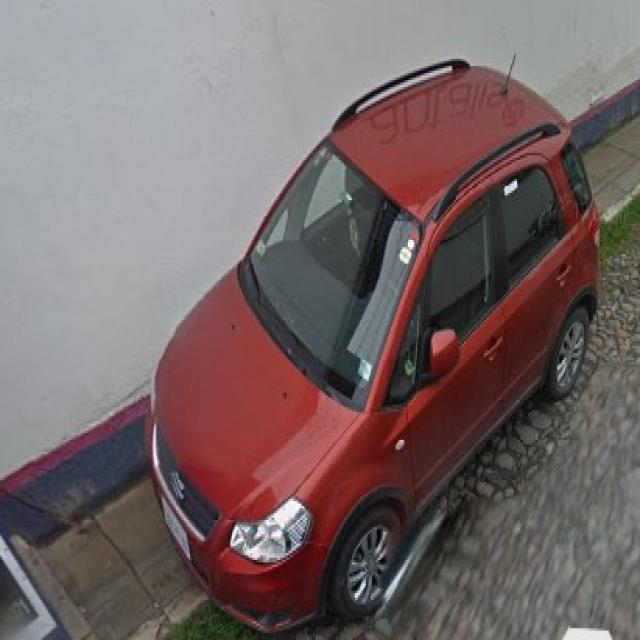Car: (139, 65, 597, 640)
